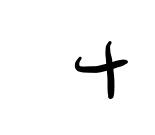plus: (73, 40, 126, 99)
